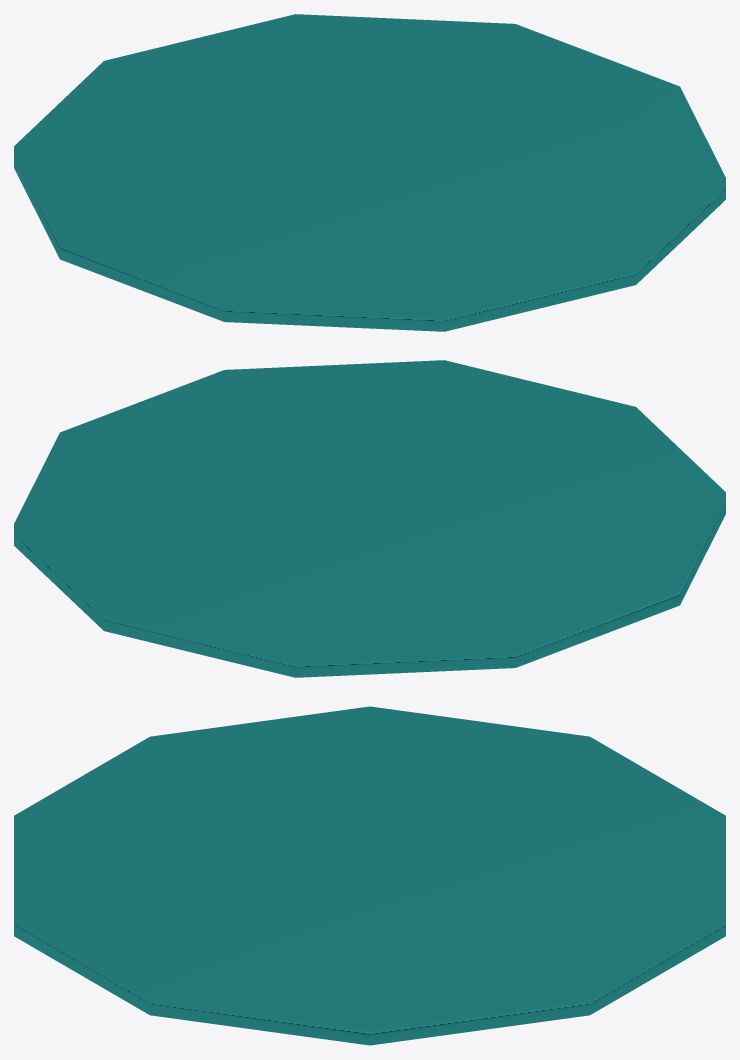
The model's file is trampoline_collider.fbx.
The picture shows the model from 3 angles, top to bottom: view 1: azimuth 30°, elevation 25°; view 2: azimuth 150°, elevation 25°; view 3: azimuth 270°, elevation 25°; orthographic projection. The views are drawn at different scales.
Parts seen in each view (by area): view 1: trampoline_collider; view 2: trampoline_collider; view 3: trampoline_collider.
Boxes of the visible parts, x1,y1,x2,y2 form: trampoline_collider: (14, 14, 725, 331); trampoline_collider: (14, 360, 725, 677); trampoline_collider: (14, 706, 725, 1045).
Size of the model in its own units: 120 by 4.02 by 114.
